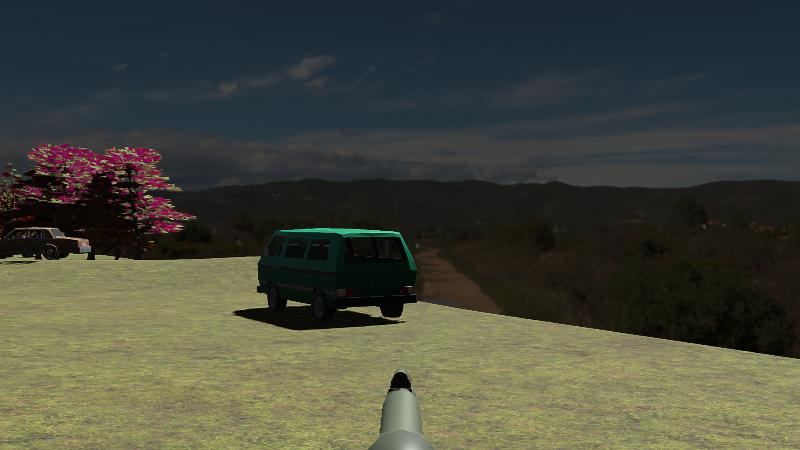car: (257, 227, 418, 324), (0, 226, 93, 261)
